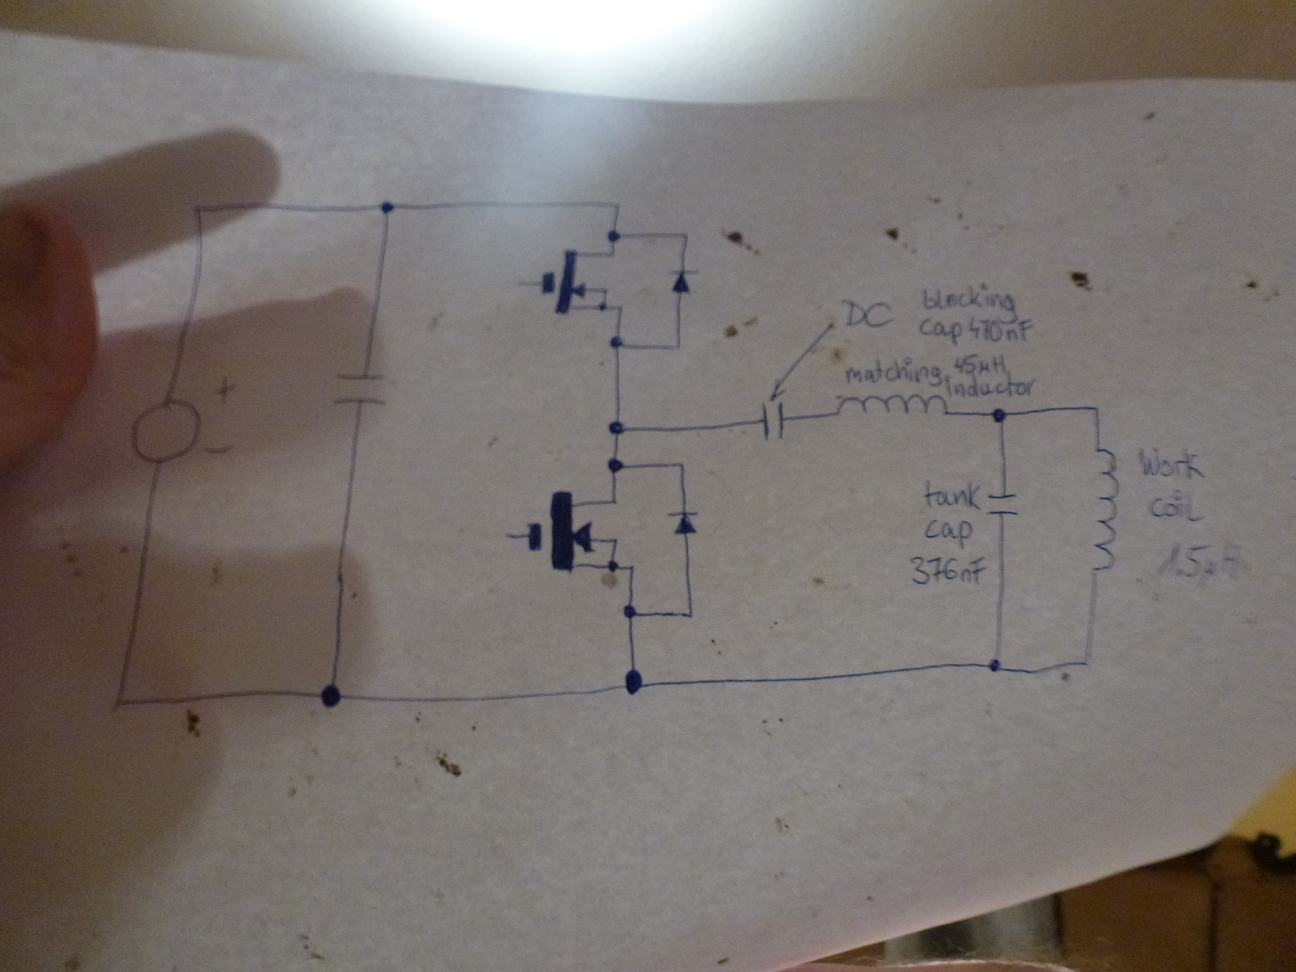capacitor.unpolarized: (331, 366, 390, 411), (759, 396, 789, 442), (983, 490, 1023, 520)
diode: (668, 508, 701, 539), (669, 268, 693, 296)
inductor: (1086, 448, 1123, 576), (831, 391, 949, 420)
junction: (621, 668, 648, 699), (318, 680, 344, 710), (606, 417, 628, 438), (375, 198, 398, 216), (986, 653, 1004, 676), (990, 403, 1007, 427), (107, 693, 124, 713), (621, 601, 638, 621), (606, 456, 624, 474), (1076, 657, 1094, 673), (607, 335, 625, 351), (189, 200, 205, 216), (606, 228, 622, 243), (682, 606, 697, 621), (672, 457, 689, 471), (678, 228, 691, 240), (609, 200, 622, 212), (1089, 402, 1103, 414), (671, 340, 683, 352)
terminal: (514, 275, 528, 291), (502, 530, 515, 542)
text: (1155, 540, 1251, 586), (920, 281, 1020, 325), (844, 352, 945, 390), (918, 317, 1034, 348), (1135, 444, 1205, 485), (907, 553, 987, 588), (944, 373, 1038, 399), (919, 478, 982, 512), (1145, 489, 1205, 523), (837, 296, 895, 329), (923, 517, 974, 552), (953, 351, 1008, 379)
transistor: (524, 488, 639, 575), (539, 246, 625, 317)
voltage.dc: (127, 396, 205, 467)
